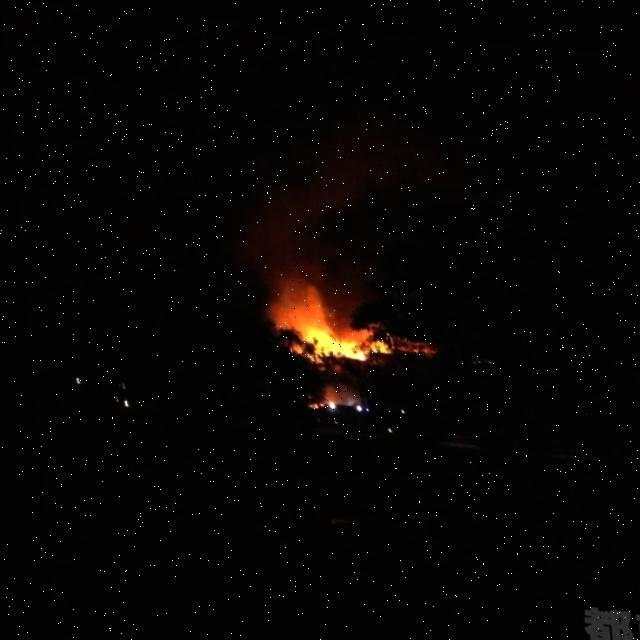Fire: (253, 256, 389, 364)
